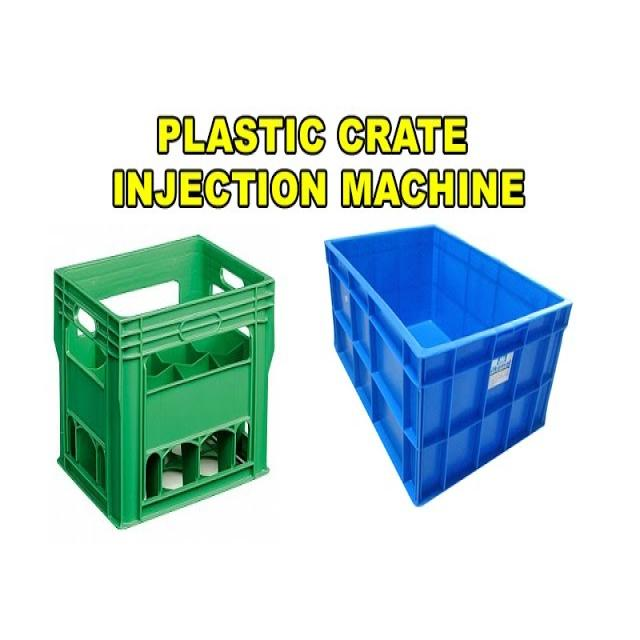basket: (269, 148, 621, 508), (54, 236, 275, 527)
